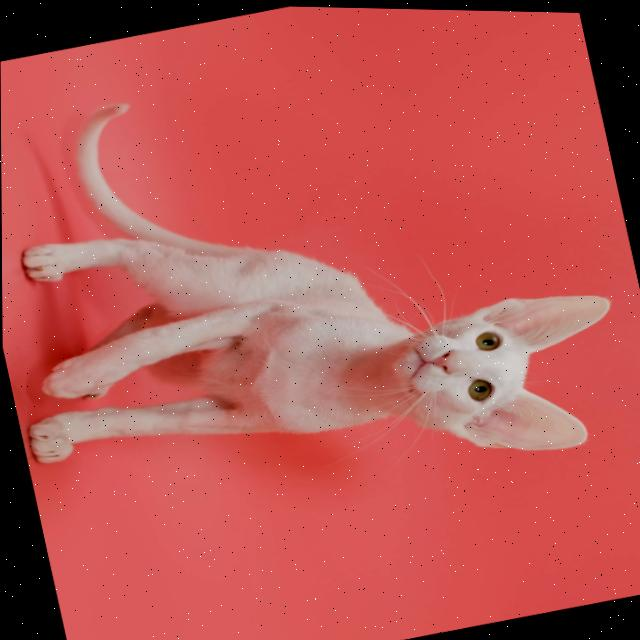Oriental: (0, 7, 639, 559)
